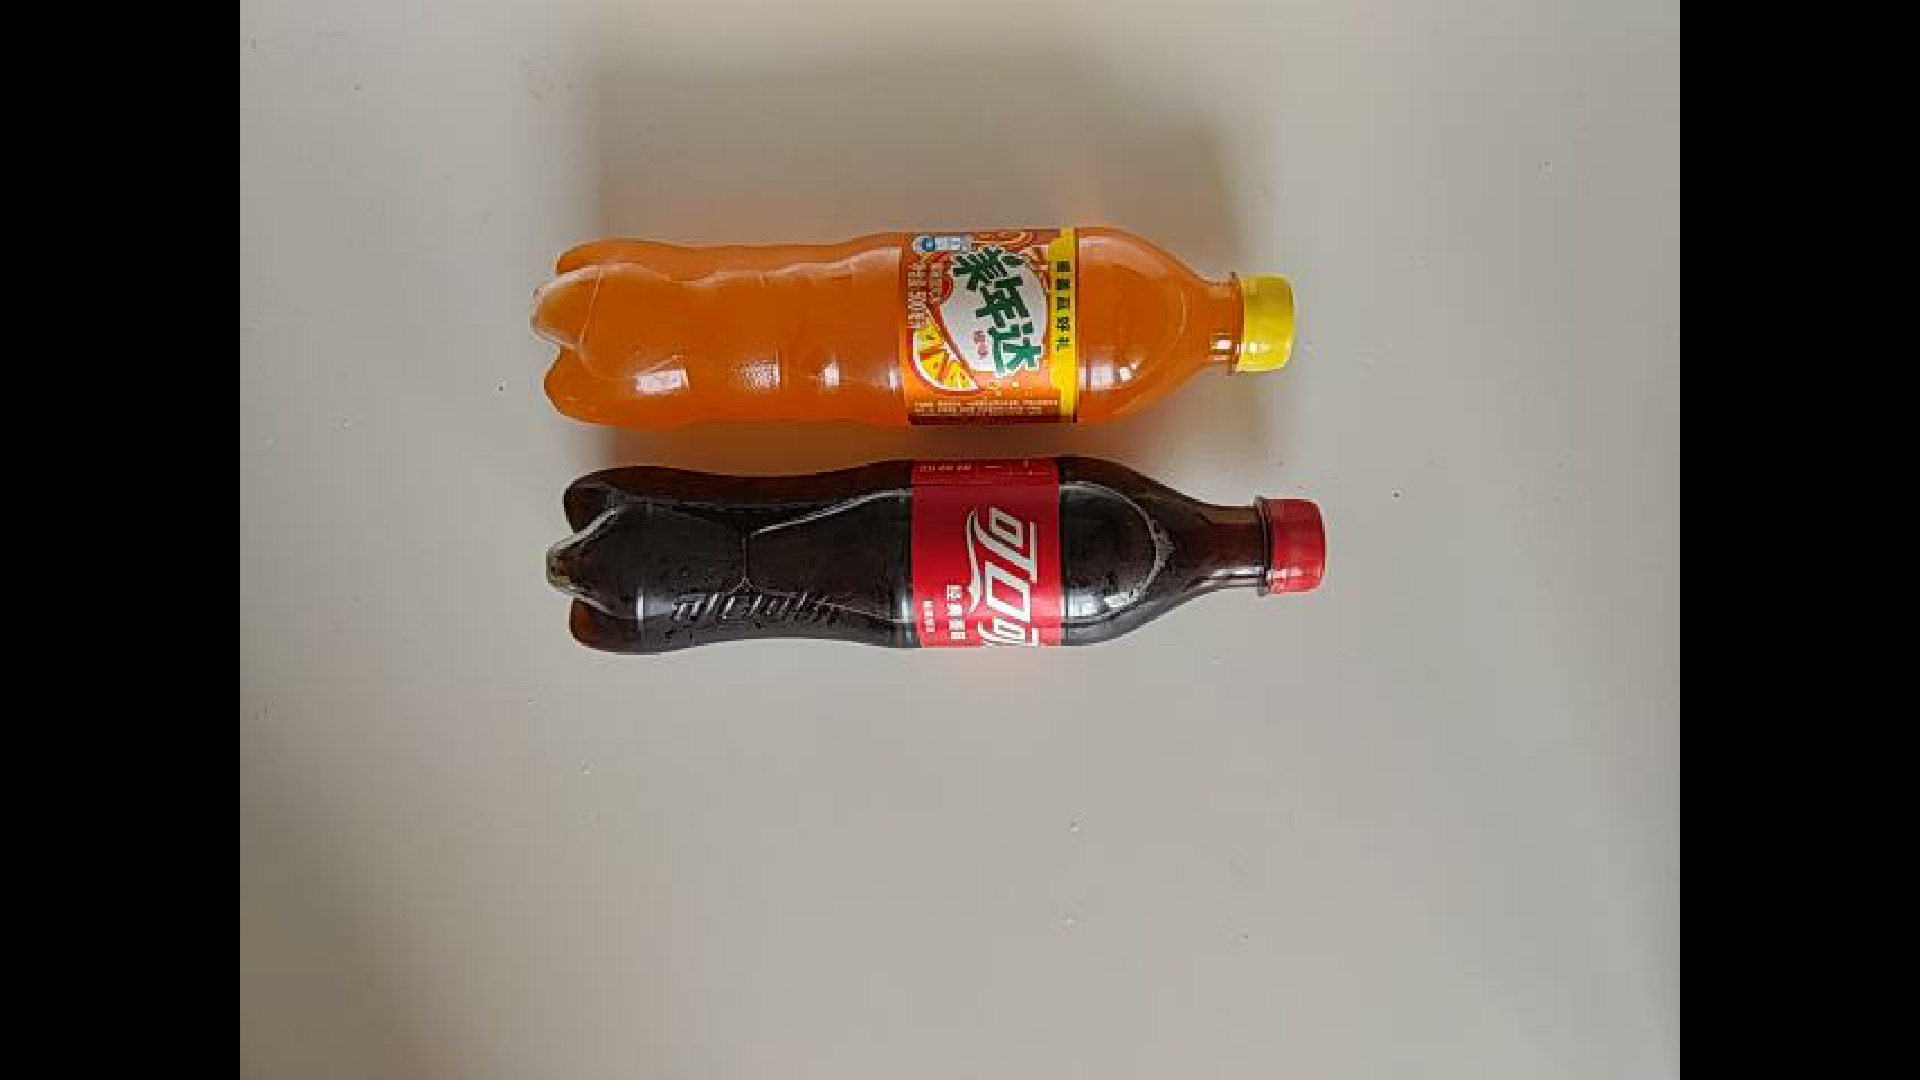cola: (543, 452, 1329, 657)
fenta: (529, 224, 1299, 430)
